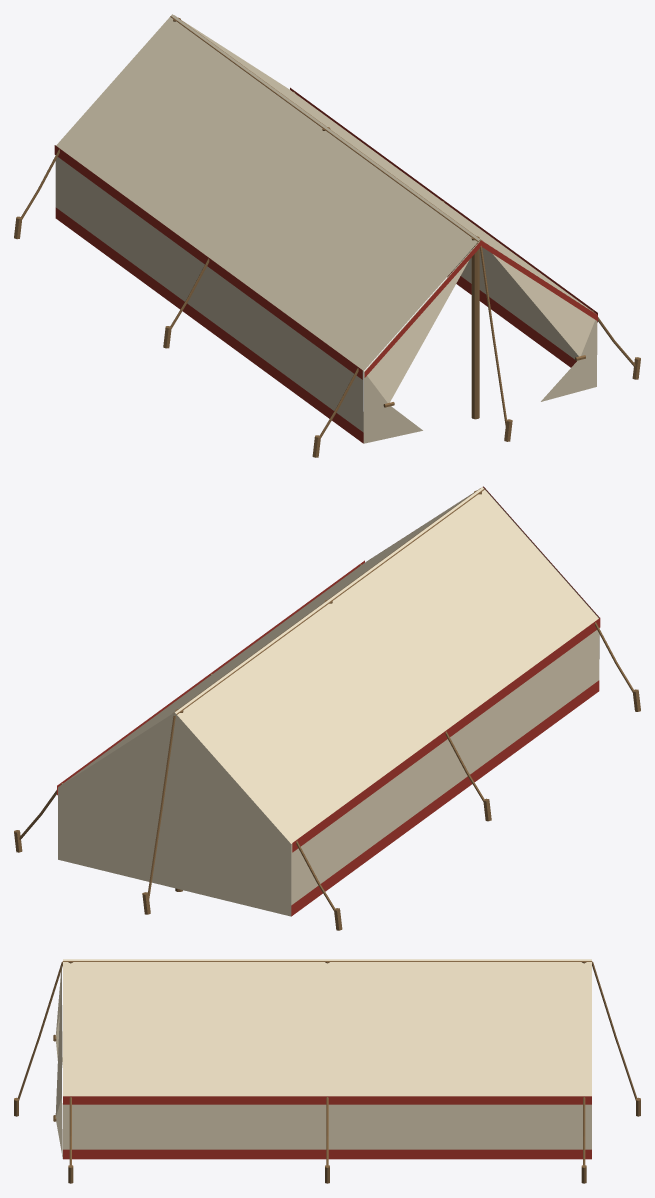
File: tent_long.glb
3 views of the same model, one above another, from view 1: azimuth 30°, elevation 25°; view 2: azimuth 150°, elevation 25°; view 3: azimuth 270°, elevation 25° (orthographic). The views are drawn at different scales.
Parts seen in each view (by area): view 1: tent_long; view 2: tent_long; view 3: tent_long.
Part boxes in pixels (<box>): tent_long: <box>14,14,640,457</box>; tent_long: <box>14,486,640,930</box>; tent_long: <box>14,959,640,1183</box>.
Bounding box in the file's own units: 4.92 × 2.61 × 9.48.
